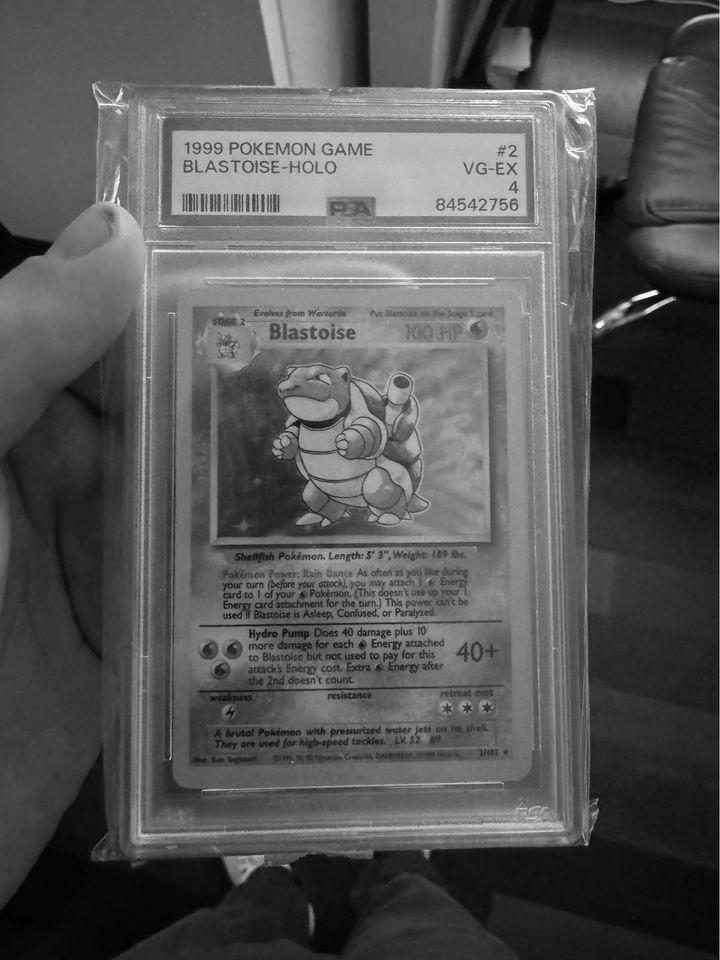card: (169, 284, 535, 790)
